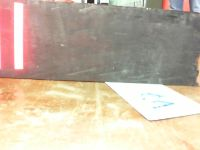switch: (13, 2, 24, 70)
